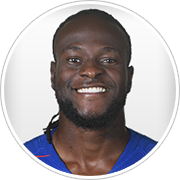smile: (73, 83, 111, 98)
